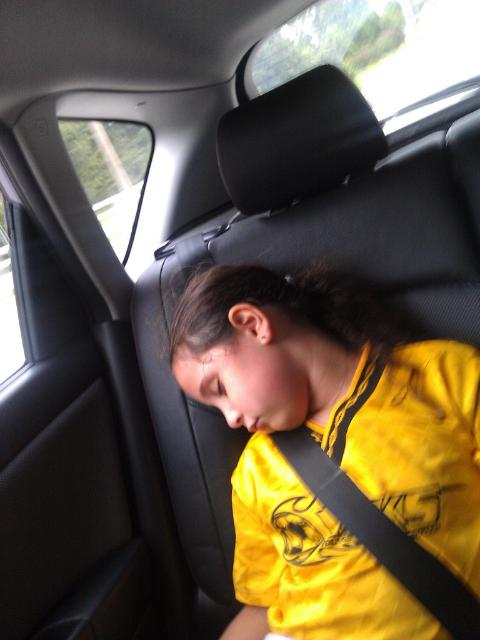Seatbelt: (270, 435, 480, 639)
